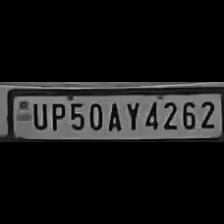0: (85, 99, 105, 130)
2: (196, 98, 216, 130), (159, 99, 177, 131)
4: (140, 99, 160, 131)
5: (66, 99, 86, 131)
6: (180, 98, 196, 130)
A: (104, 100, 122, 132)
P: (47, 100, 65, 132)
U: (28, 99, 48, 130)
Y: (122, 98, 142, 132)
